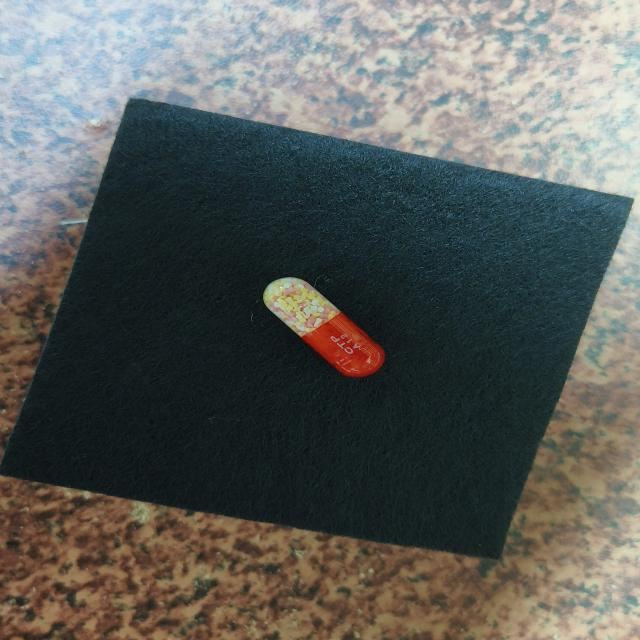Intact Capsule: (263, 277, 385, 378)
